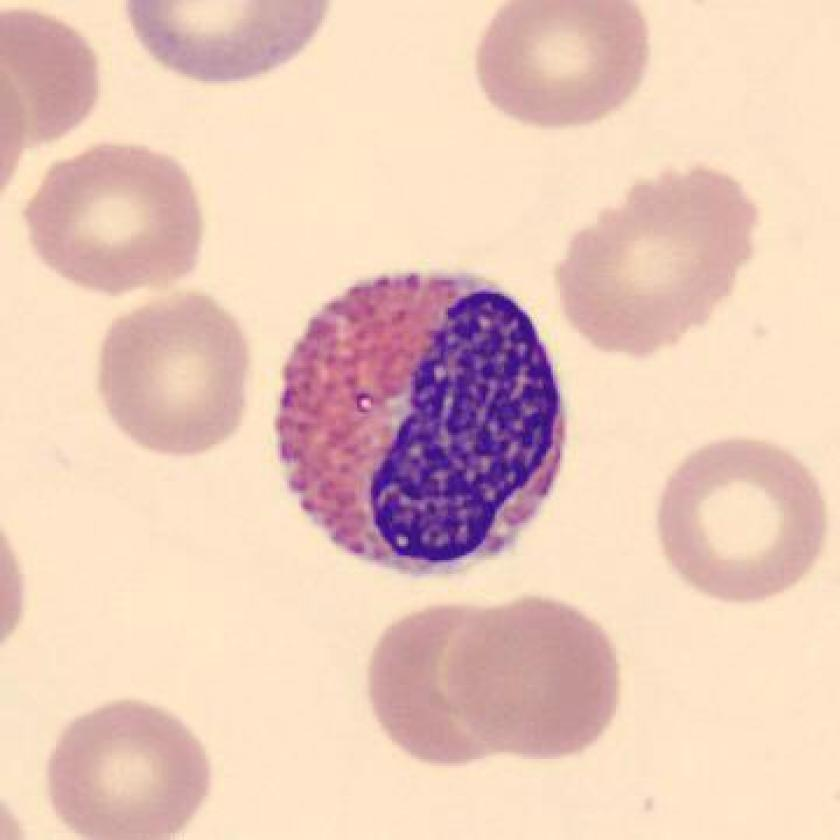eosinophil: (260, 260, 587, 584)
